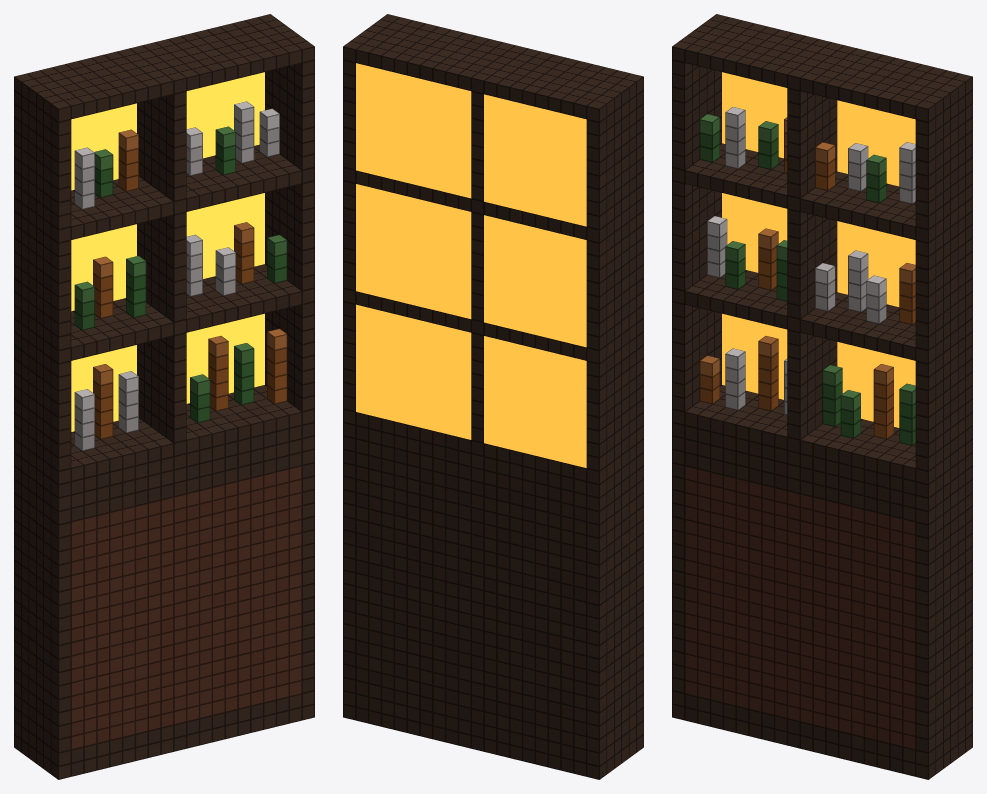
Rendered from back_bar_shelf.glb.
3 views of the same model, side by side, from view 1: azimuth 30°, elevation 25°; view 2: azimuth 150°, elevation 25°; view 3: azimuth 330°, elevation 25° (orthographic).
Parts seen in each view (by area): view 1: back_bar_shelf; view 2: back_bar_shelf; view 3: back_bar_shelf.
Boxes of the visible parts, x1,y1,x2,y2 form: back_bar_shelf: (14, 14, 314, 779); back_bar_shelf: (343, 14, 643, 779); back_bar_shelf: (672, 14, 972, 779).
Size of the model in its own units: 1 by 2.5 by 0.3.
Materials: 9 (8 with a texture image).
